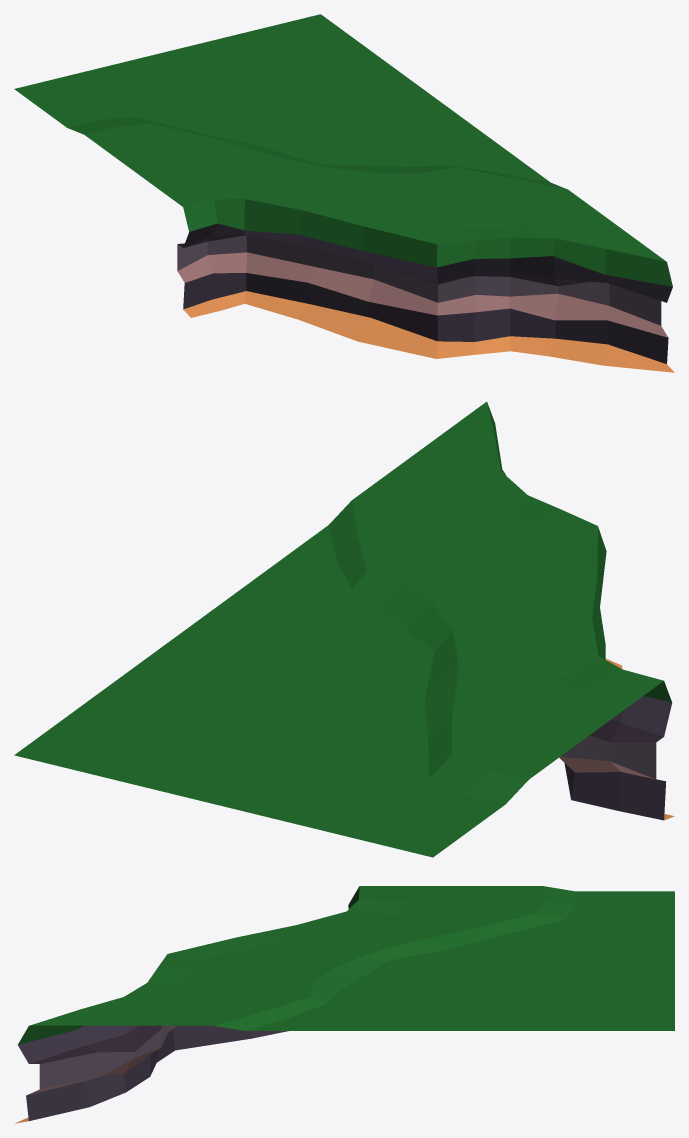
Rendered from Barranco_a_Playa_ChanfleID.fbx.
3 views of the same model, one above another, from view 1: azimuth 30°, elevation 25°; view 2: azimuth 150°, elevation 25°; view 3: azimuth 270°, elevation 25° (orthographic). The views are drawn at different scales.
Parts seen in each view (by area): view 1: Barranco_a_Playa_ChanfleID; view 2: Barranco_a_Playa_ChanfleID; view 3: Barranco_a_Playa_ChanfleID.
Part boxes in pixels (<box>): Barranco_a_Playa_ChanfleID: <box>14,14,674,372</box>; Barranco_a_Playa_ChanfleID: <box>14,401,674,857</box>; Barranco_a_Playa_ChanfleID: <box>15,886,674,1123</box>.
Bounding box in the file's own units: 2000 × 662 × 4000.
